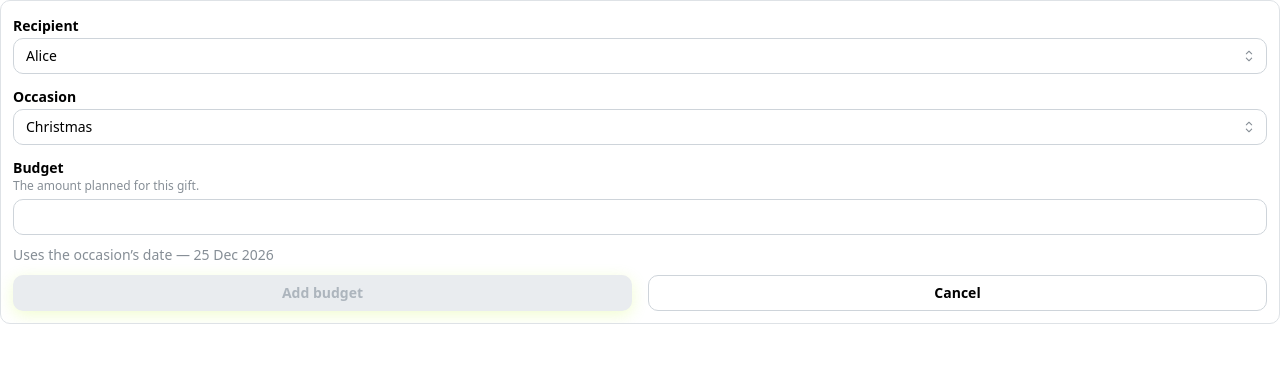
Test: GiftBudgetForm › shows an error and re-enables the button when saving fails
This screenshot has width=1280, height=371.
Type "50" into the field labelled "Budget" at (640, 217), box [13,199,1267,235]
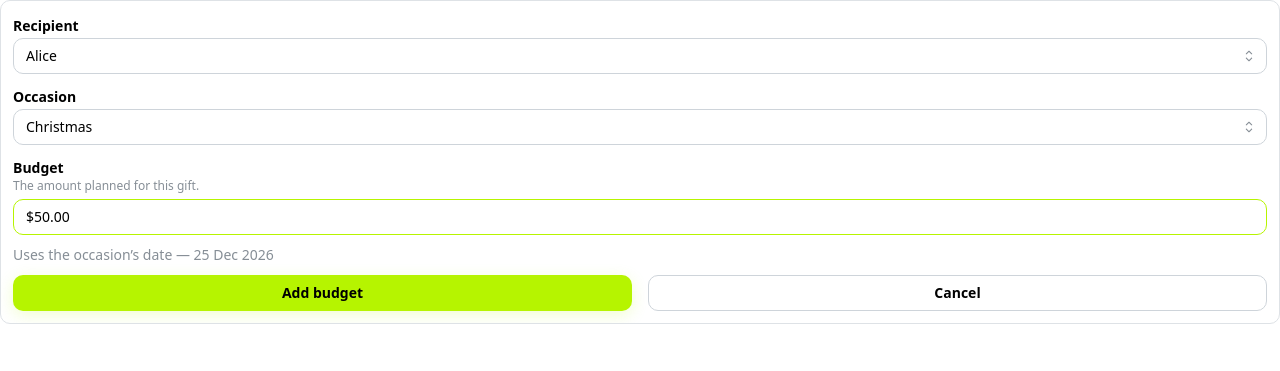
Click the button "Add budget" at (322, 293), box [13,275,632,311]
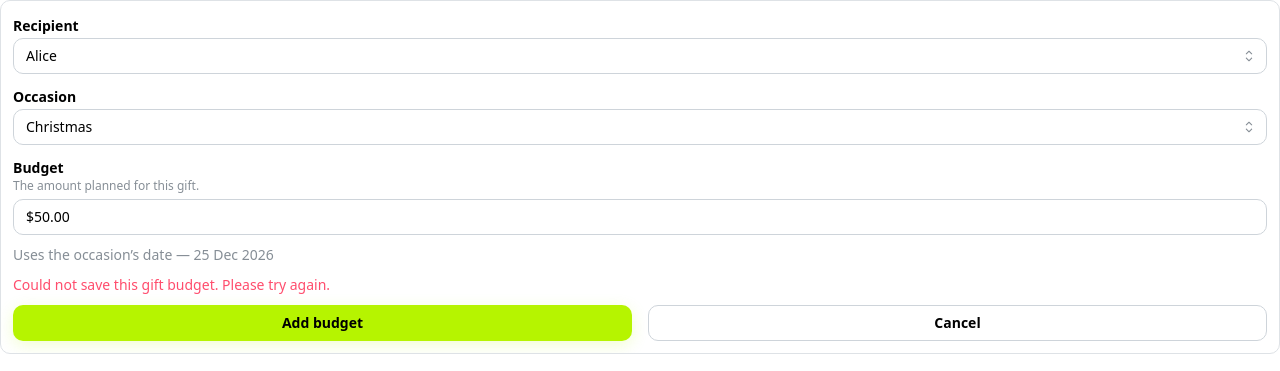
Expected: the button "Add budget" is enabled, [13,305,632,341]
Expected: the message shows "Could not save", [13,275,330,294]
